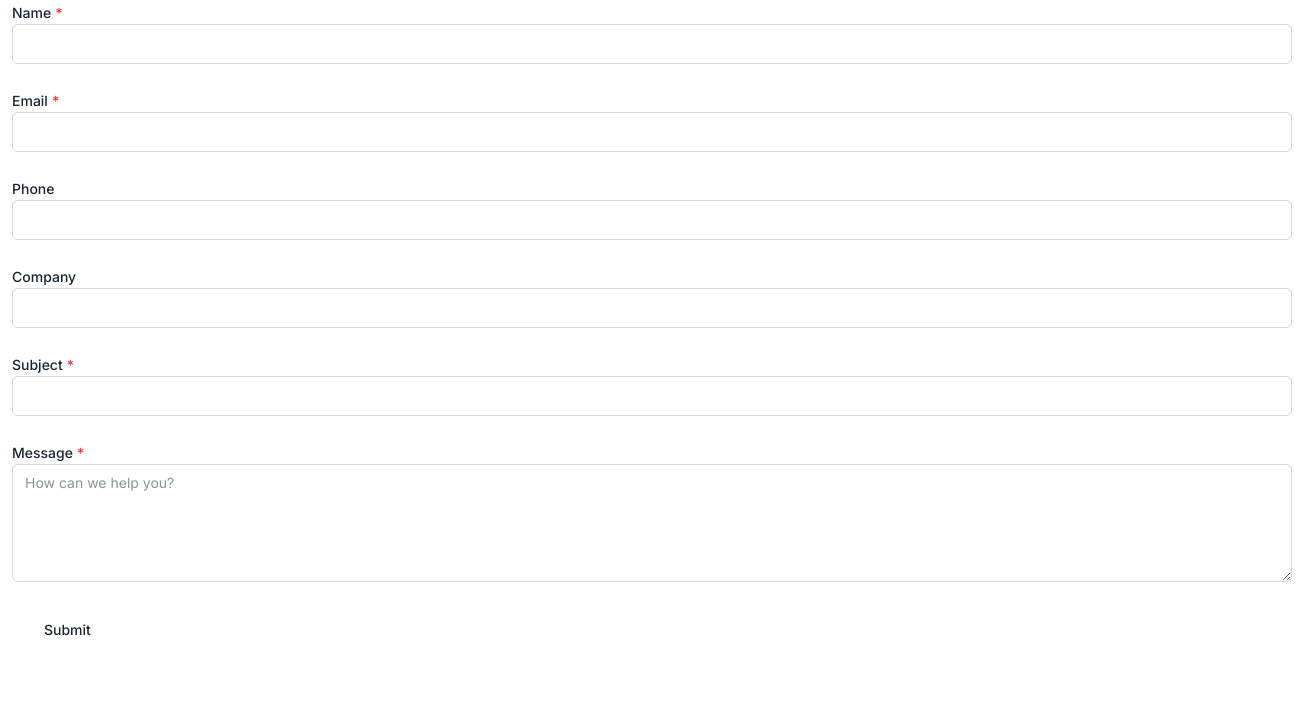
Test: ContactForm › Validation › shows validation error for short subject
Type "Hi" into the field labelled "Subject*".
click(652, 396); type("Hi")  # box left=12, top=376, right=1292, bottom=416
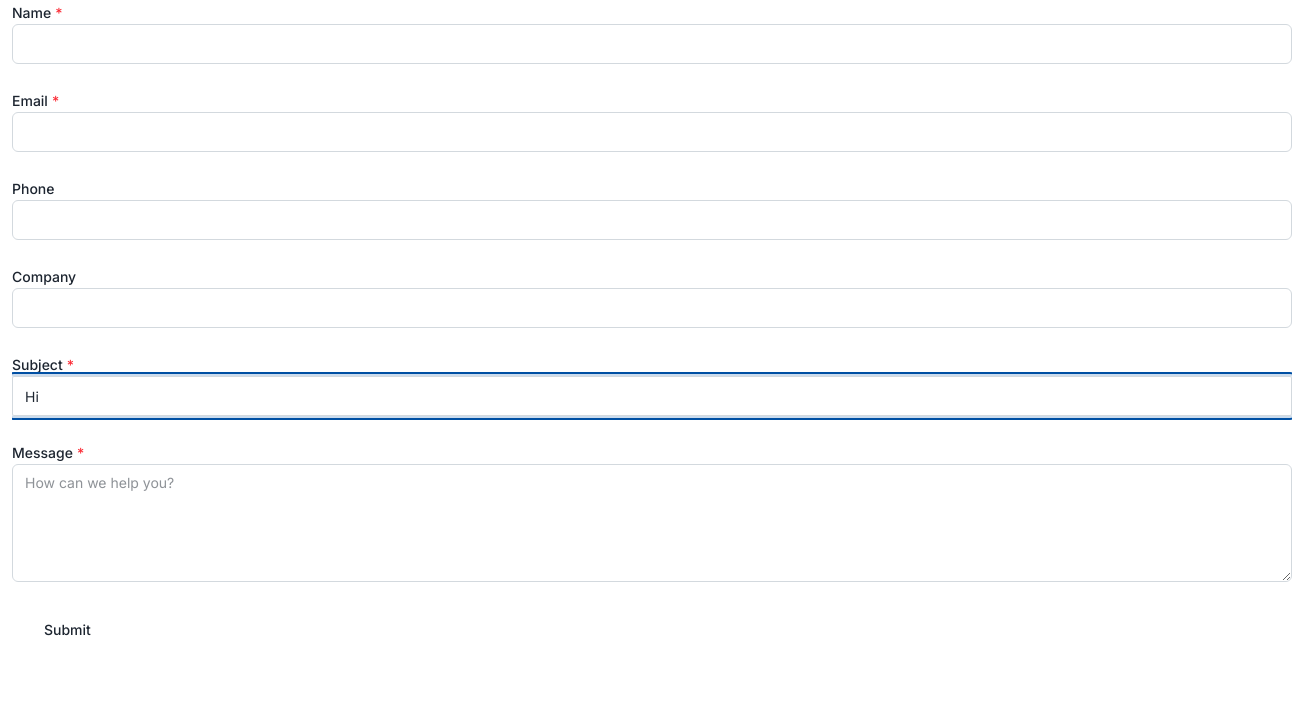
Press Tab
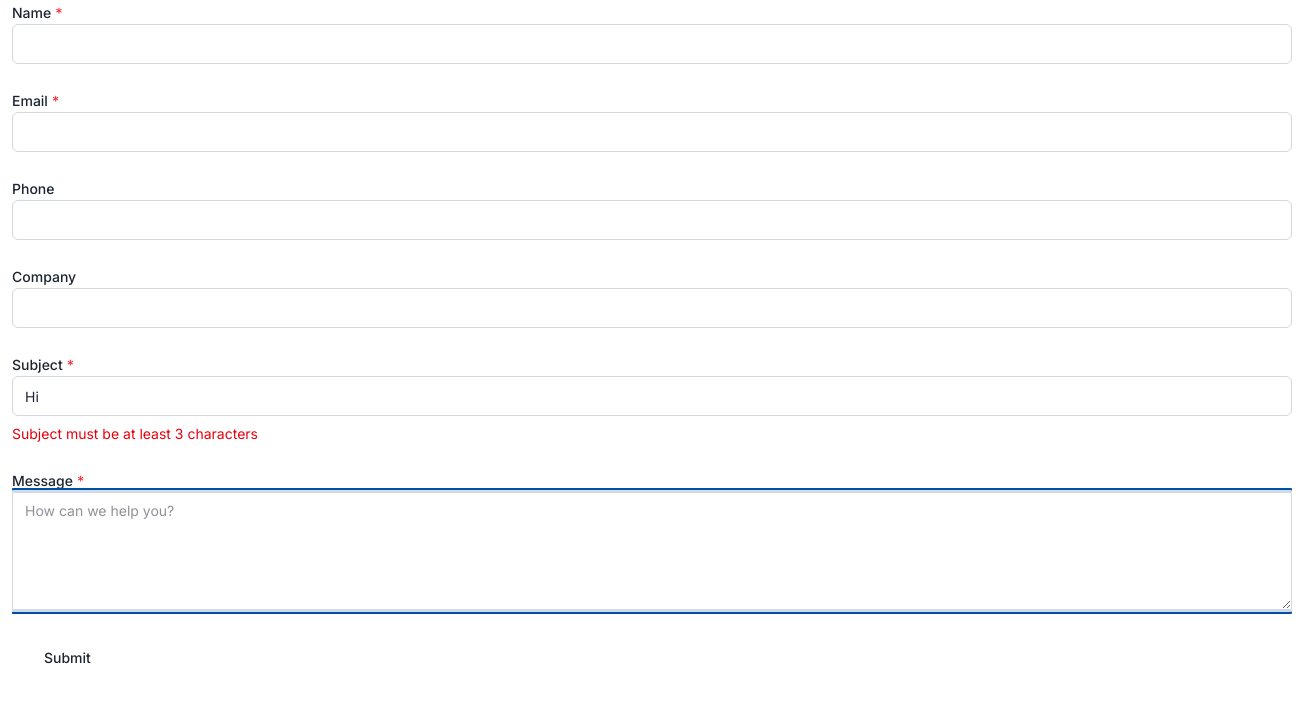
Check: the text "Subject must be at least 3 characters" is shown, box left=12, top=425, right=258, bottom=442
